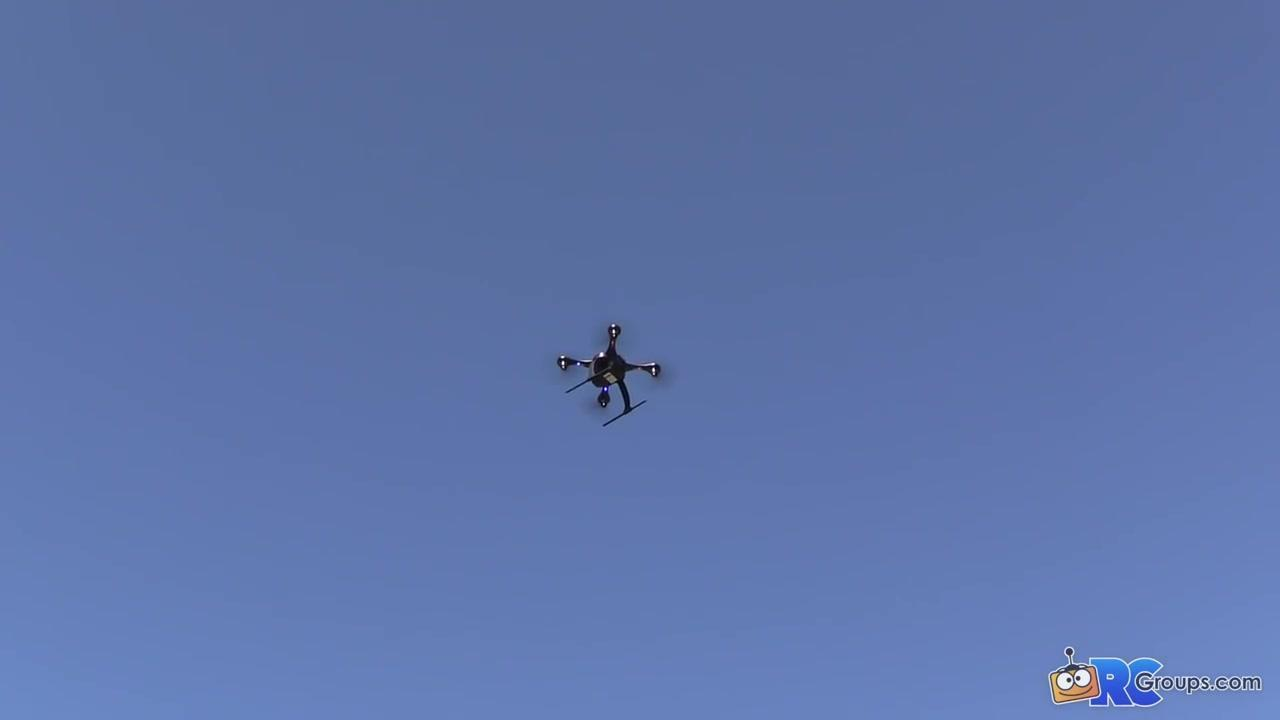UAV: (558, 324, 662, 428)
